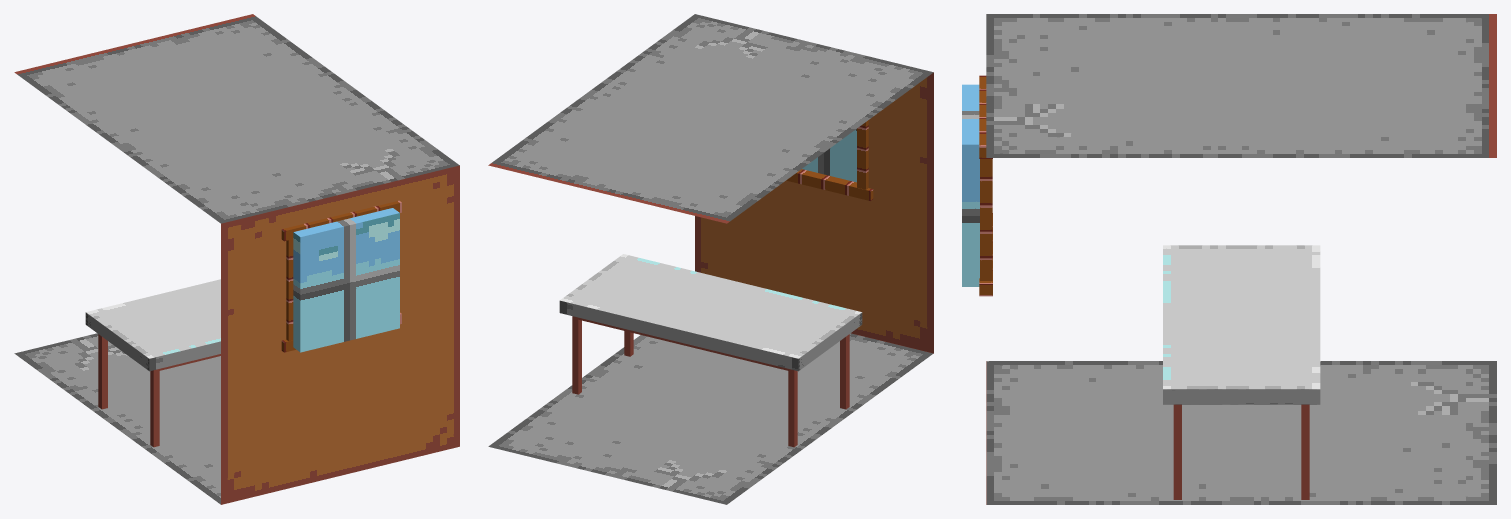
File: kitchen.glb
3 views of the same model, side by side, from view 1: azimuth 30°, elevation 25°; view 2: azimuth 150°, elevation 25°; view 3: azimuth 270°, elevation 25° (orthographic). The views are drawn at different scales.
Visible parts, largest first — view 1: room_section, table; view 2: room_section, table; view 3: room_section, table.
Boxes of the visible parts, x1,y1,x2,y2 form: room_section: (14,14,459,504); table: (85,279,220,447); room_section: (488,14,933,504); table: (559,254,862,447); room_section: (962,14,1496,504); table: (1163,245,1320,499).
Bounding box in the file's own units: 8 × 9 × 12.57.
2 materials, 2 textured.
